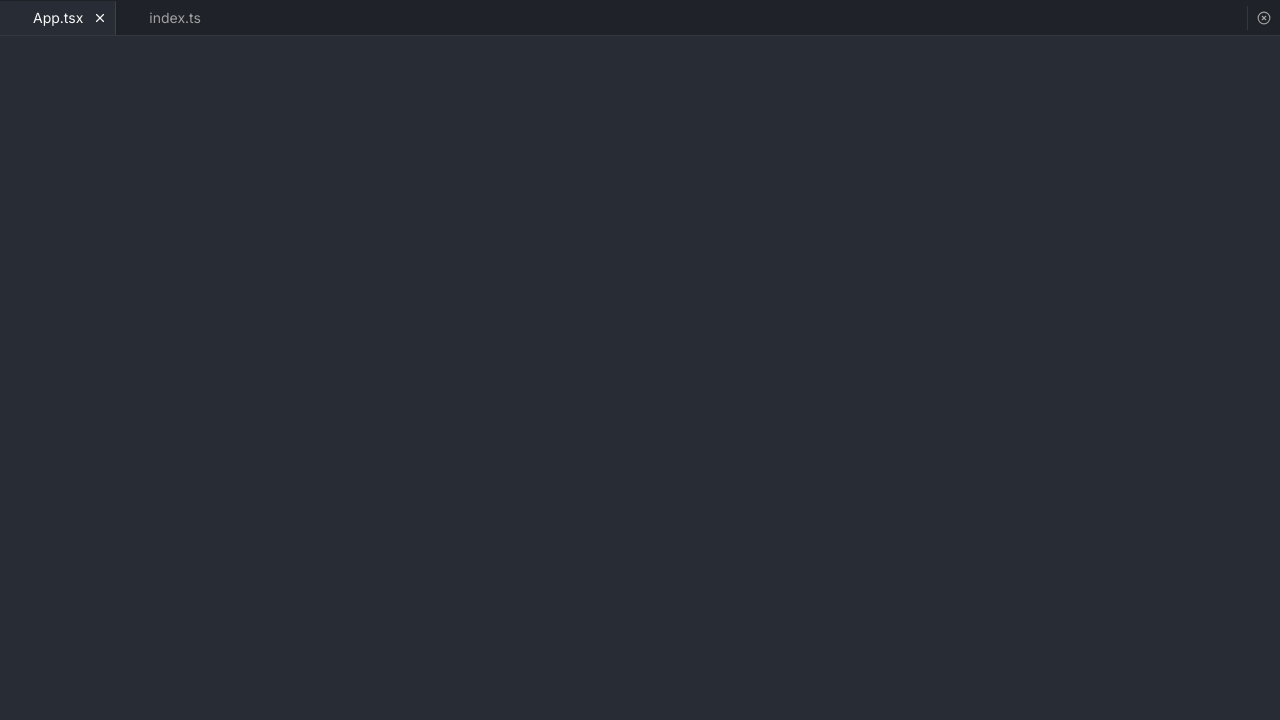
TopNavigation Close All Tabs Control (Issue #73) › preserves tabs and closes dialog when user cancels confirmation
Click the button named "Close all tabs" at (1264, 18), box 1252,6 -> 1276,30
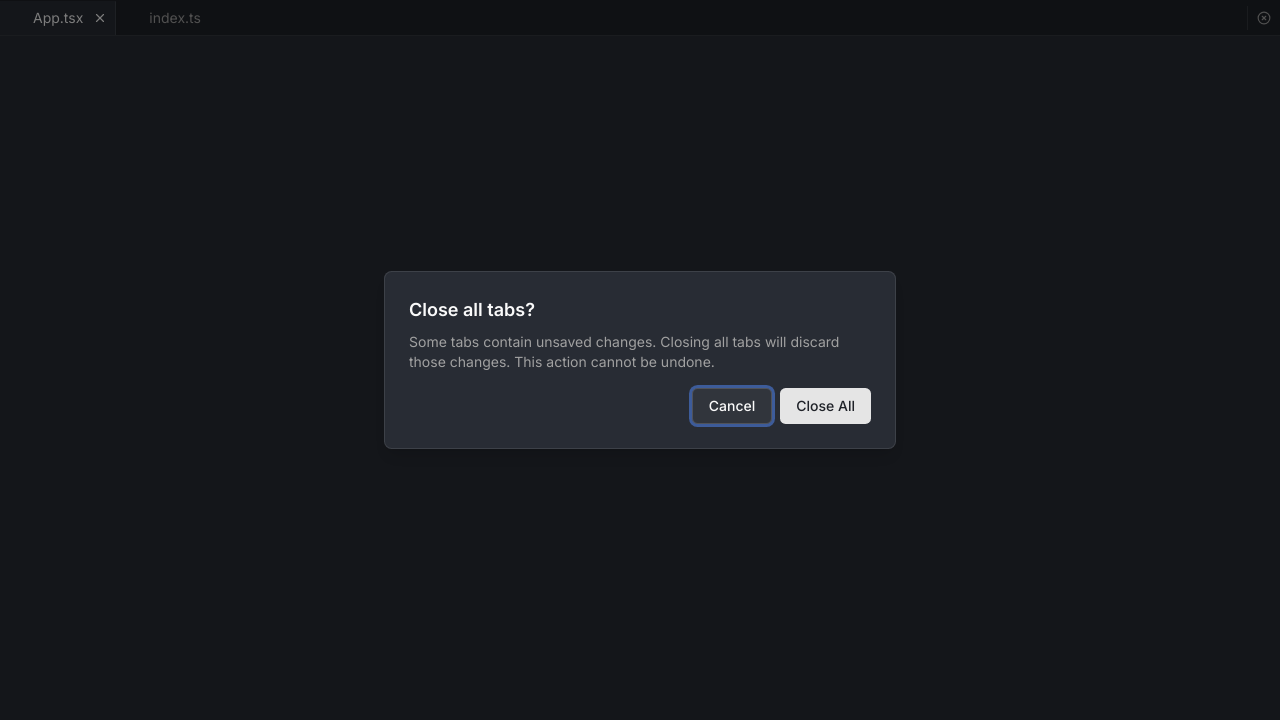
Click the button "Cancel" at (732, 406), box 692,388 -> 772,424
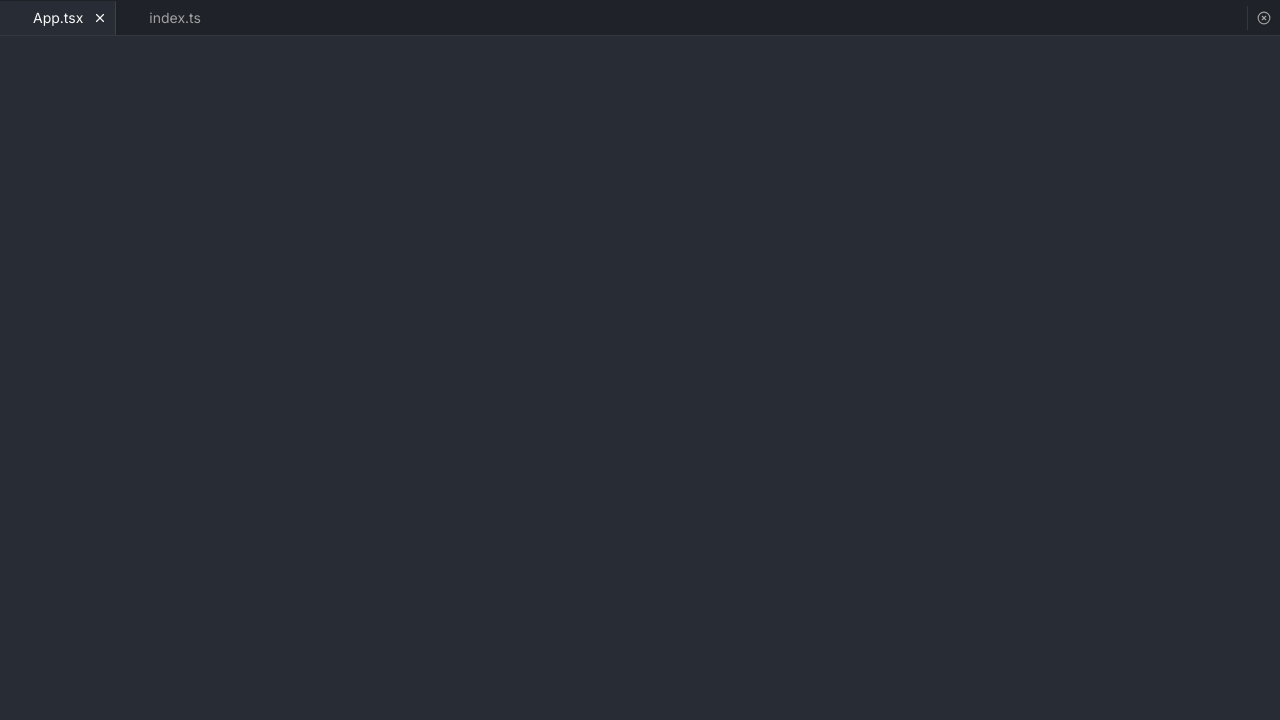
Now the heading "Close all tabs?" is gone
